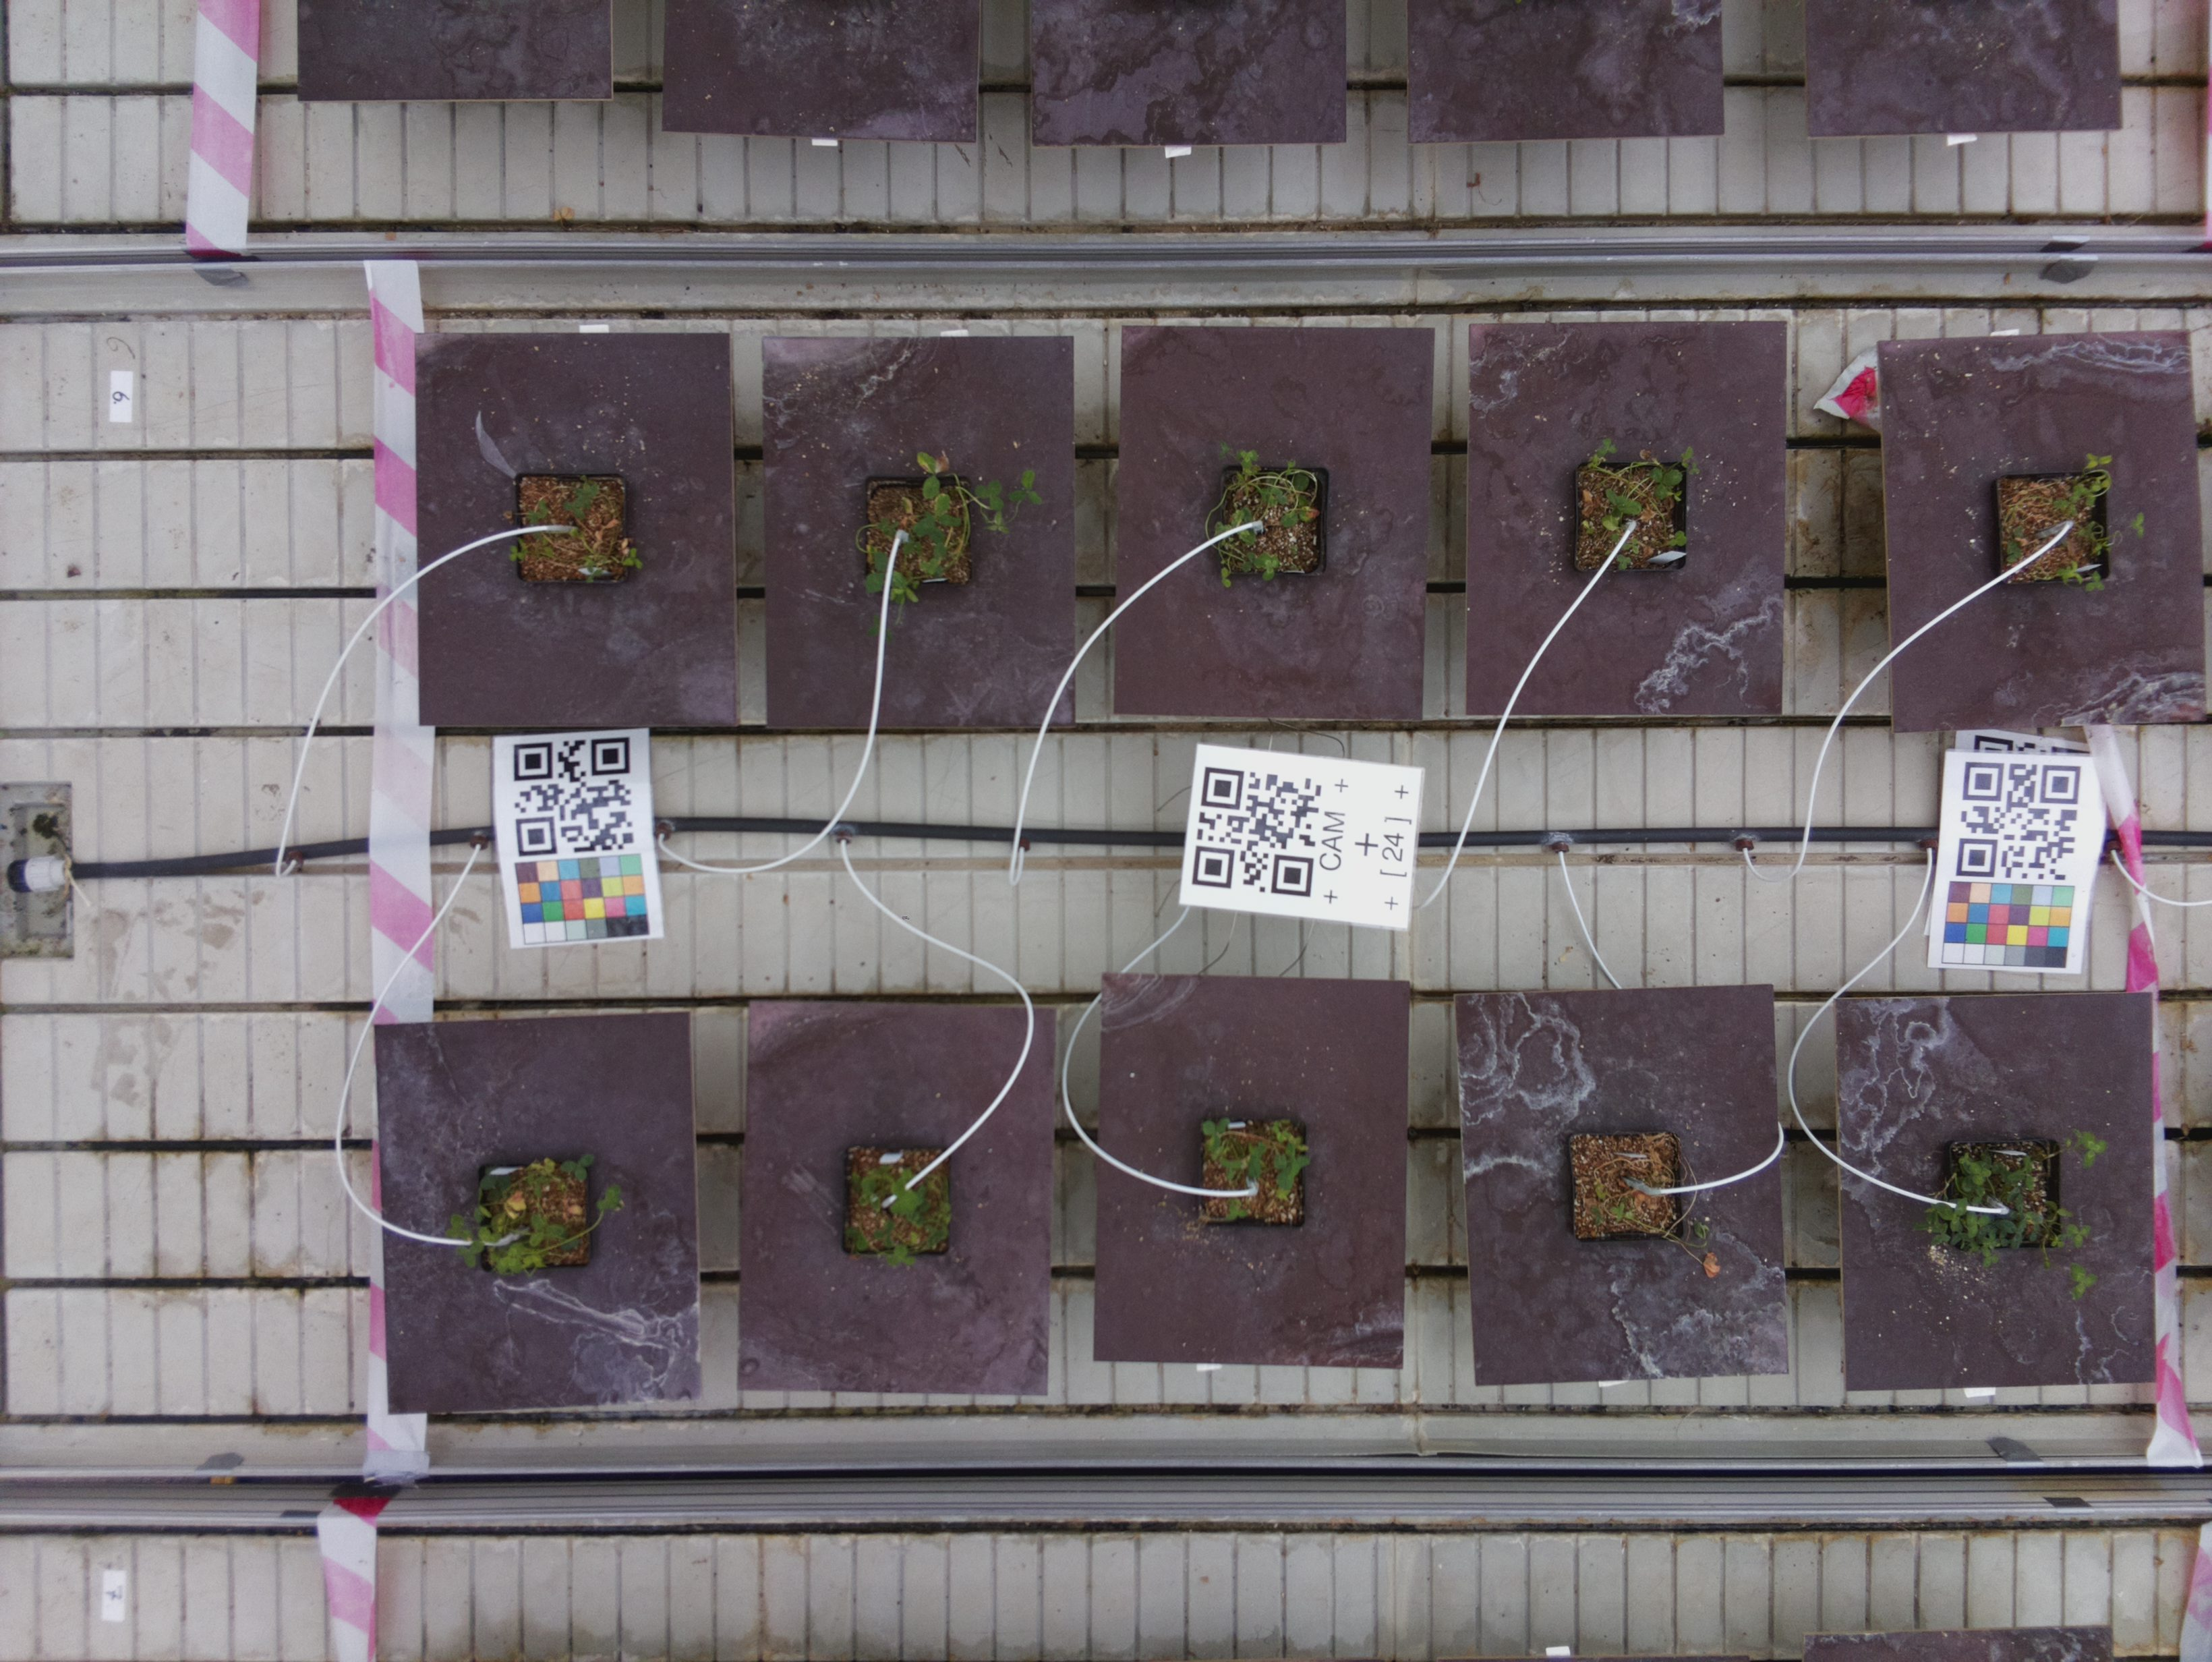POT: (754, 333, 1079, 733), (1458, 995, 1791, 1381), (414, 333, 738, 728), (1835, 995, 2158, 1383), (1098, 971, 1405, 1370), (372, 1027, 702, 1398), (1474, 323, 1783, 718), (1880, 342, 2205, 716), (742, 999, 1049, 1390), (1124, 326, 1423, 721)
QRCODE: (1178, 740, 1426, 931)
QRCOLOR: (1931, 744, 2102, 978), (492, 738, 662, 948)
